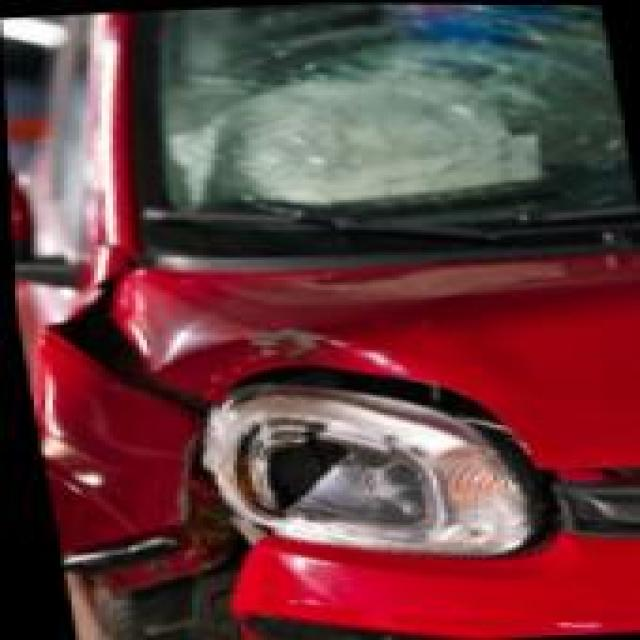Bonnet: (143, 258, 515, 405)
Fender: (23, 312, 222, 561)
Light: (207, 375, 524, 560)
Windshield: (124, 0, 635, 231)
